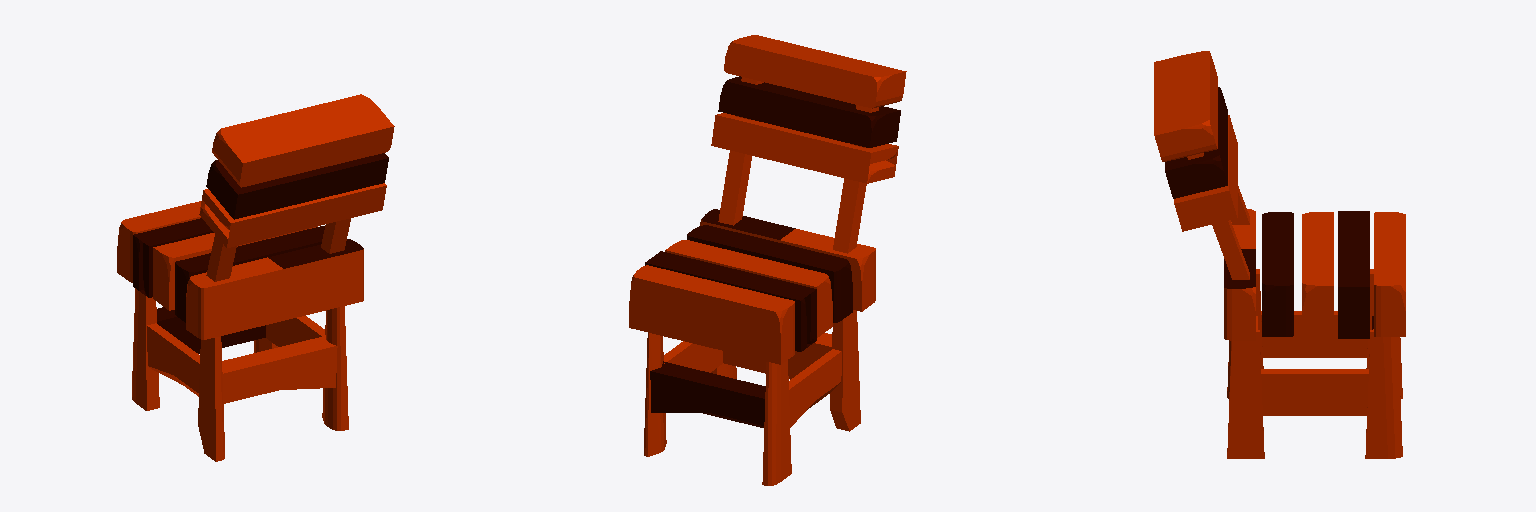
Rendered from chair2.obj.
3 views of the same model, side by side, from view 1: azimuth 30°, elevation 25°; view 2: azimuth 150°, elevation 25°; view 3: azimuth 270°, elevation 25° (orthographic).
Parts seen in each view (by area): view 1: chair.003; view 2: chair.003; view 3: chair.003.
Boxes of the visible parts, box(x1,y1,x2,y2) form: chair.003: box(117, 94, 394, 461); chair.003: box(629, 35, 906, 485); chair.003: box(1154, 51, 1405, 458).
Bounding box in the file's own units: 0.8163 × 1.62 × 1.08.